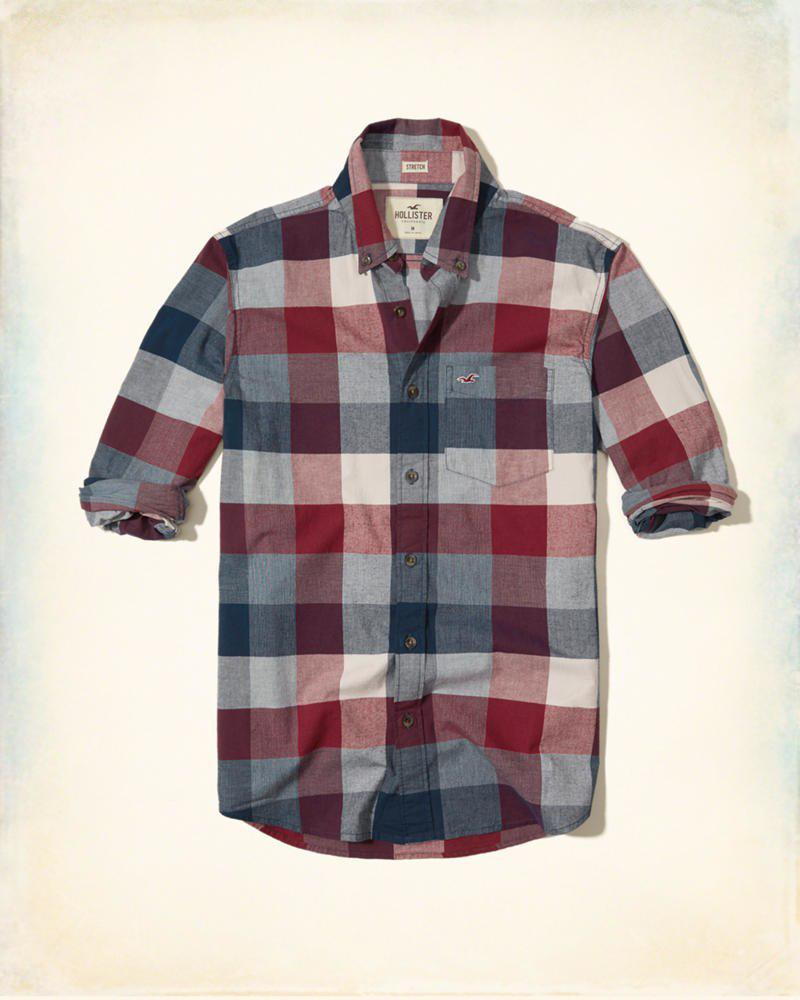teeshirt: (114, 101, 733, 834)
